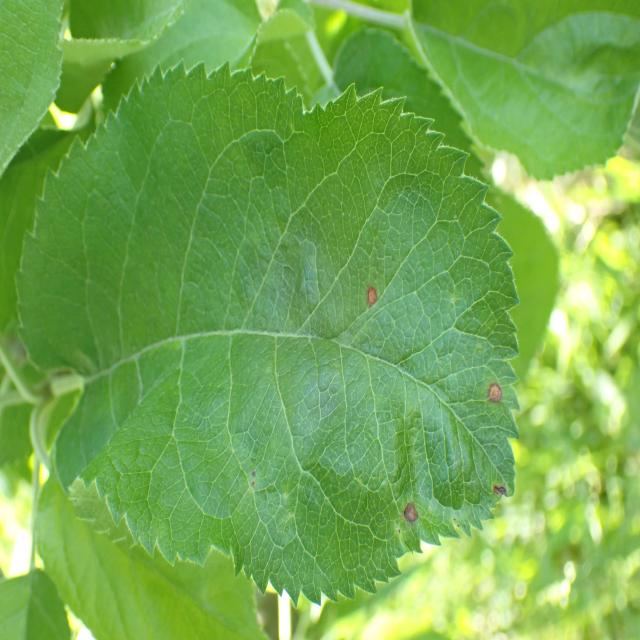Black Rot: (393, 486, 429, 557), (483, 368, 512, 423), (356, 270, 380, 335), (492, 458, 512, 522)
